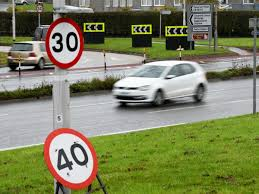sp30: (41, 21, 96, 66)
sp40: (43, 130, 101, 184)
